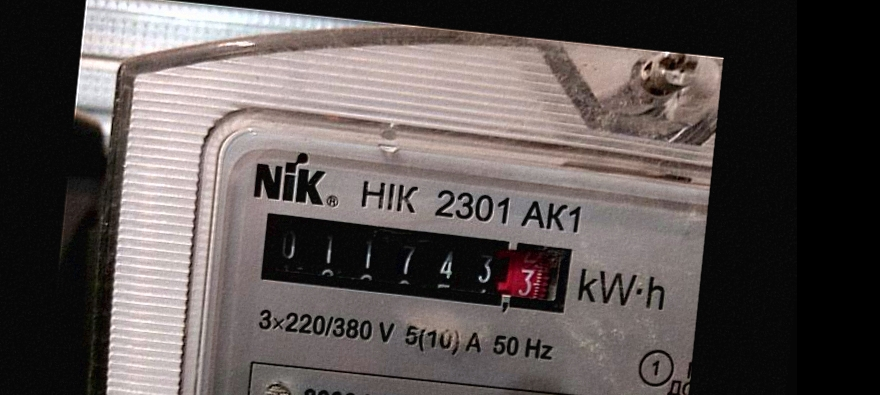0: (276, 226, 299, 264)
1: (359, 236, 377, 271), (322, 232, 336, 266)
3: (472, 250, 494, 287), (515, 267, 536, 301)
4: (435, 246, 456, 282)
7: (397, 241, 418, 277)
screen: (244, 200, 586, 328)
